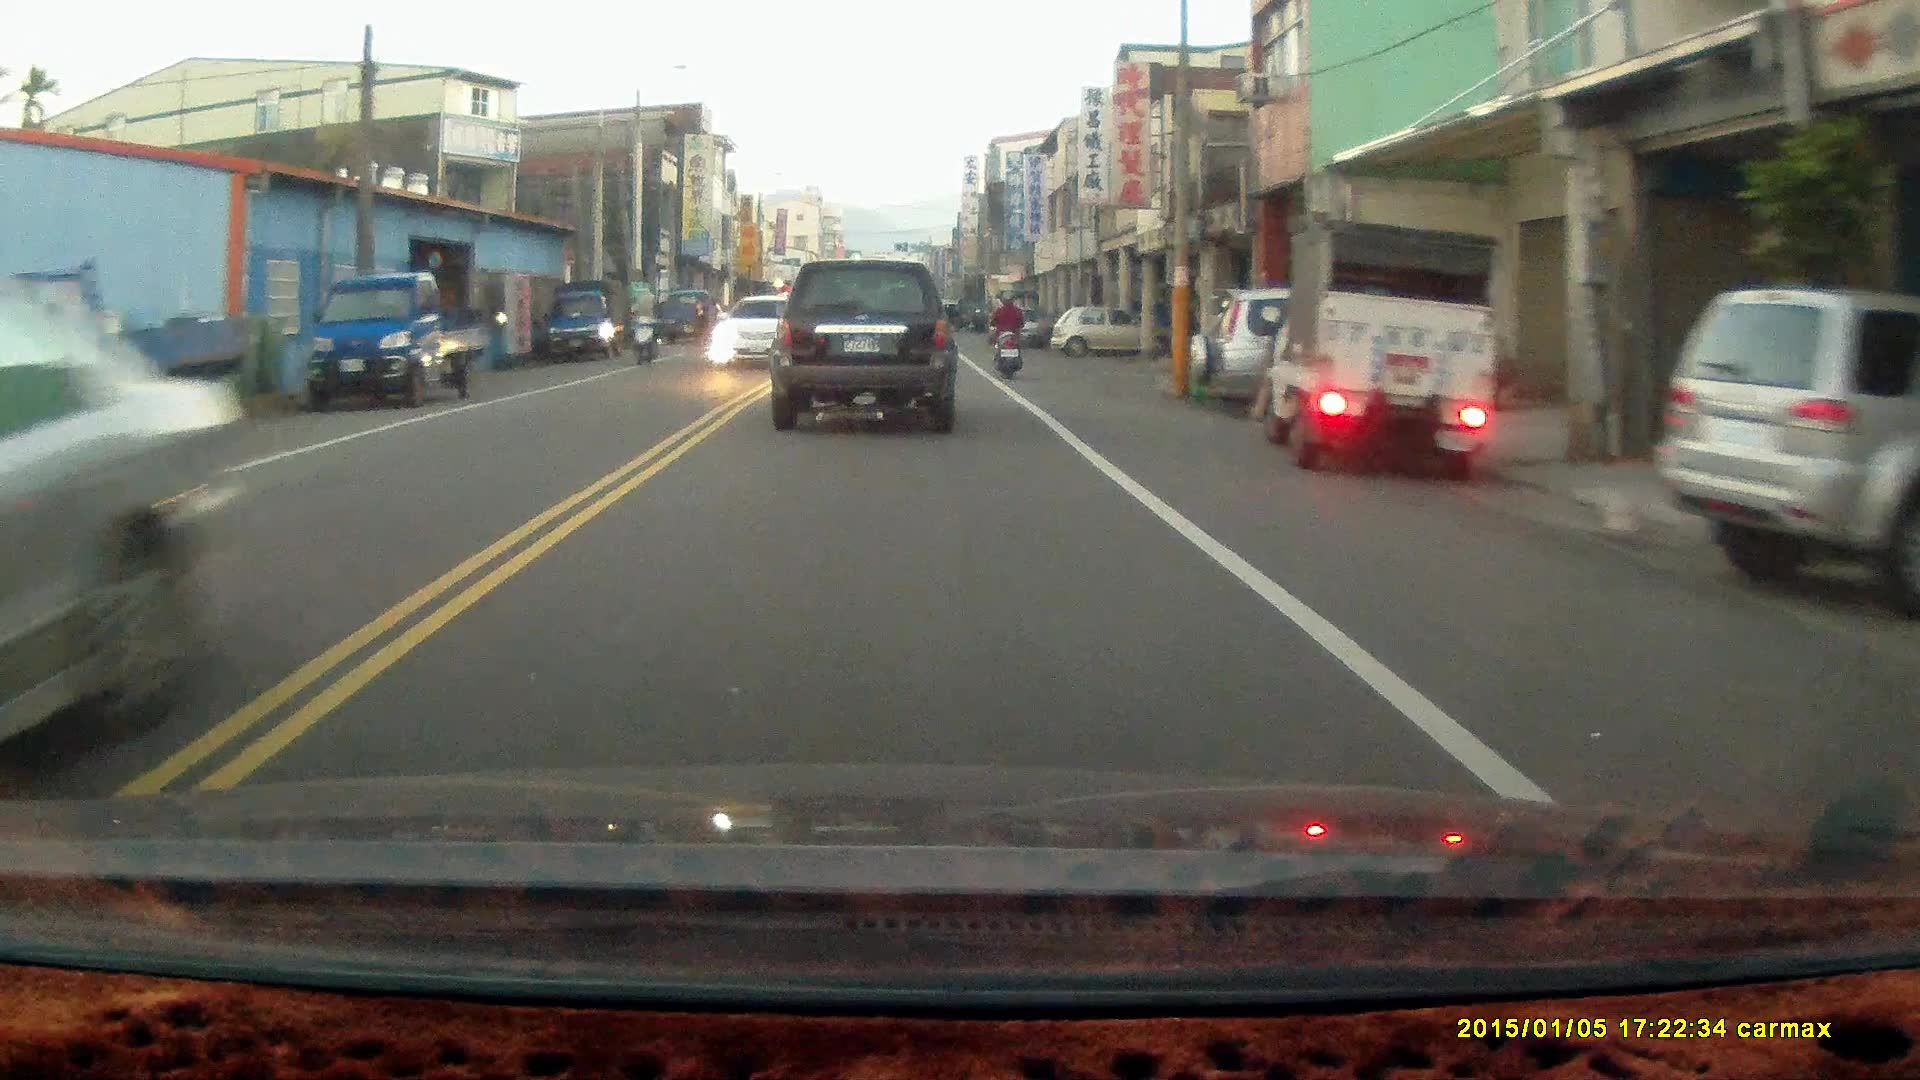pedestrian: (690, 297, 710, 347)
rider: (989, 284, 1026, 381), (628, 283, 663, 364)
vehicle: (1, 283, 248, 793), (1663, 286, 1920, 592), (1259, 219, 1508, 477), (1188, 277, 1523, 426), (9, 265, 243, 457), (769, 255, 962, 431), (305, 270, 486, 407), (540, 279, 637, 359), (1056, 306, 1138, 359)
